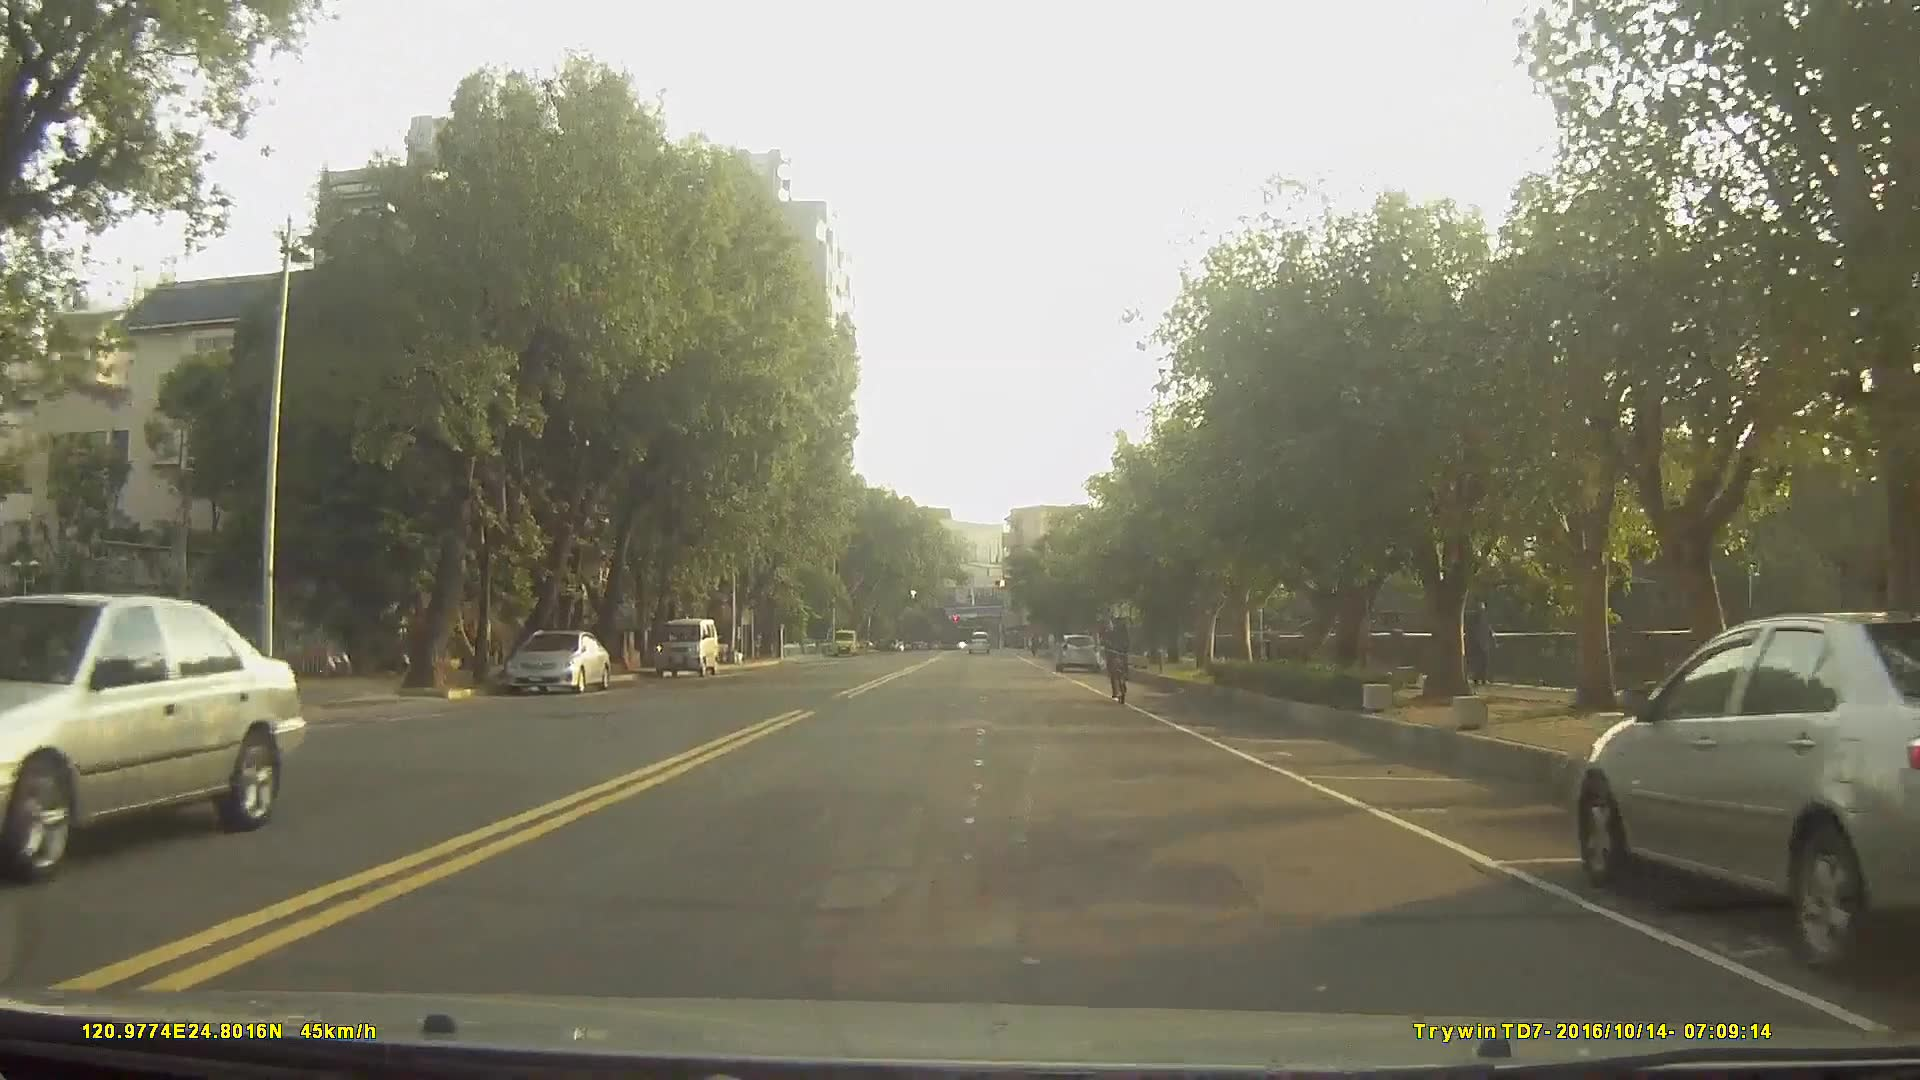rider: (1103, 613, 1135, 705)
vehicle: (1574, 610, 1917, 971), (0, 590, 308, 887), (503, 630, 610, 698), (651, 617, 719, 680), (1052, 631, 1099, 671), (965, 627, 990, 653)
